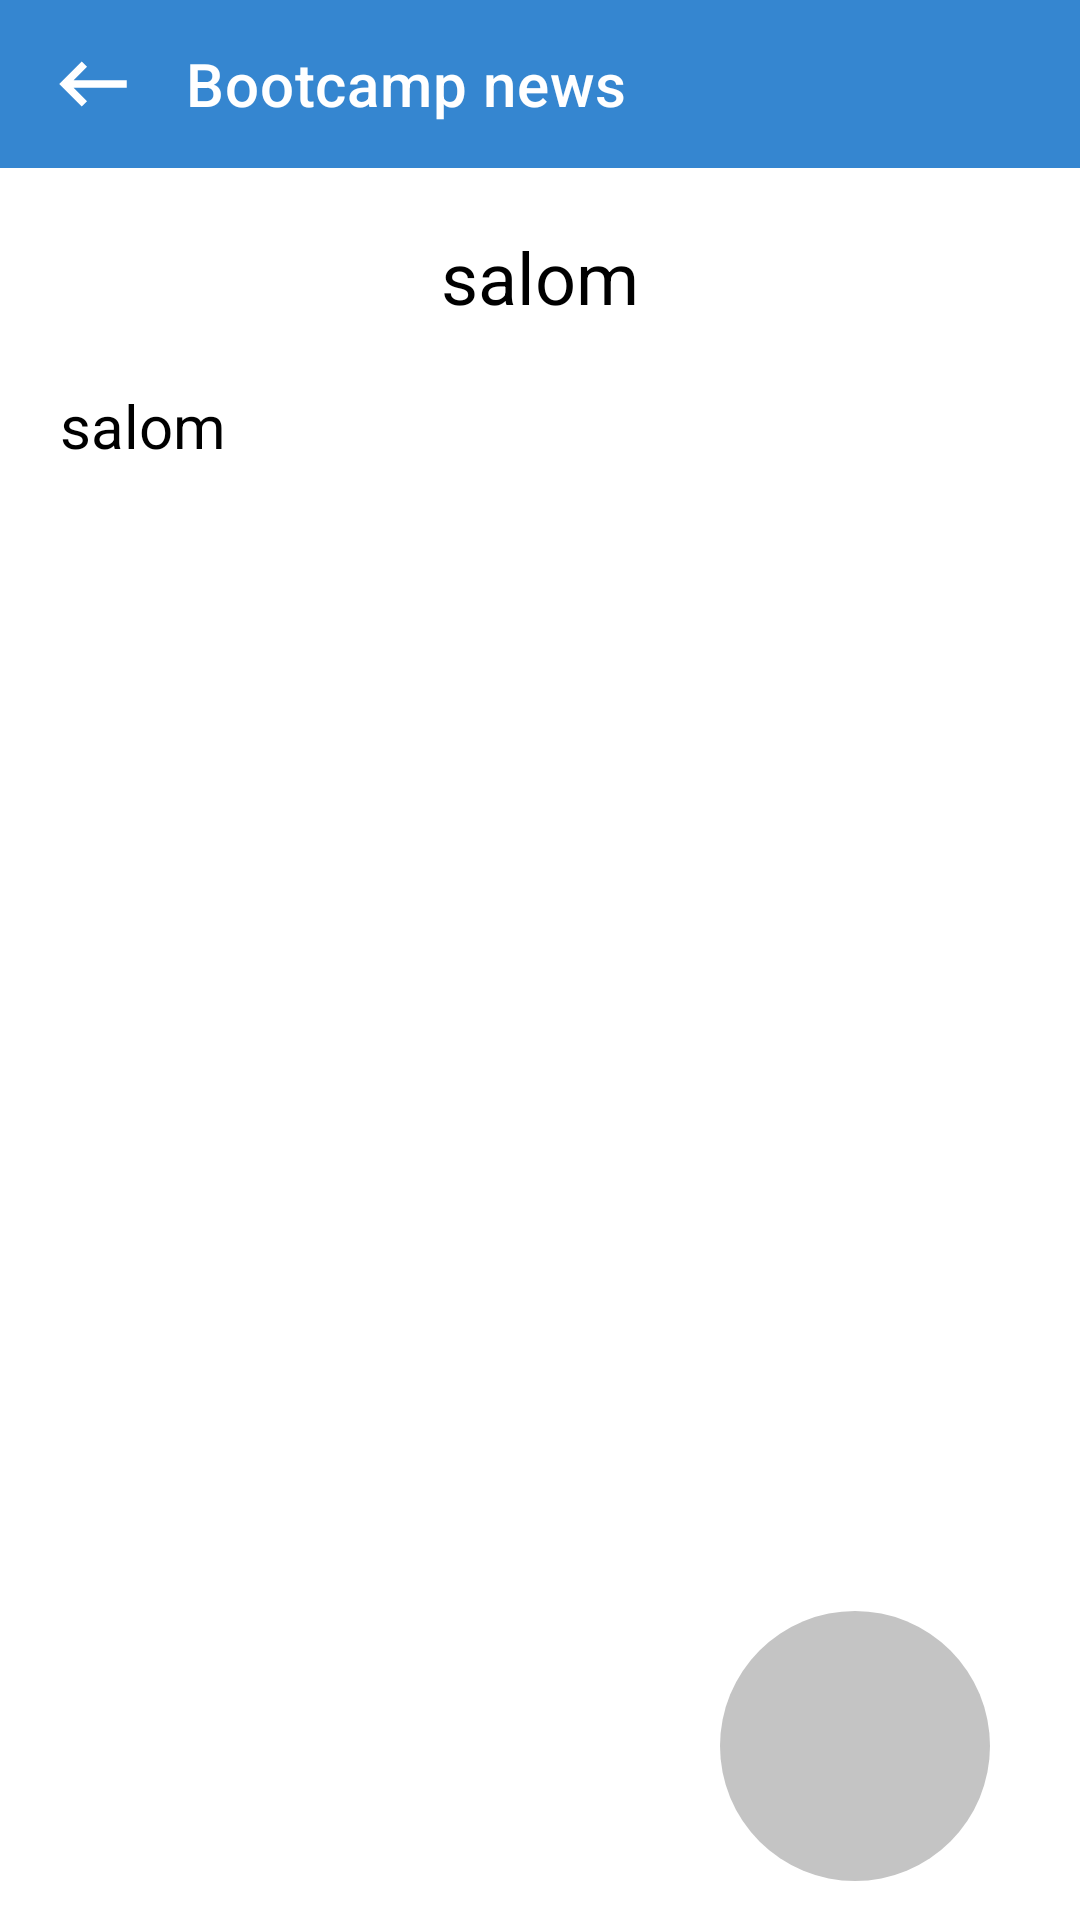

Where to tap for icons on this 1080px×1920px app screen, as [x,y]:
keyboard backspace: [93,84]
